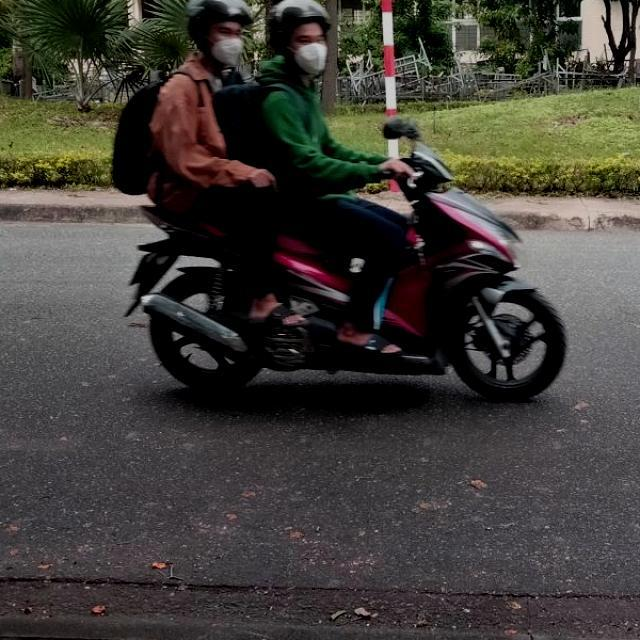Helmet: (268, 0, 330, 79), (186, 0, 244, 70)
